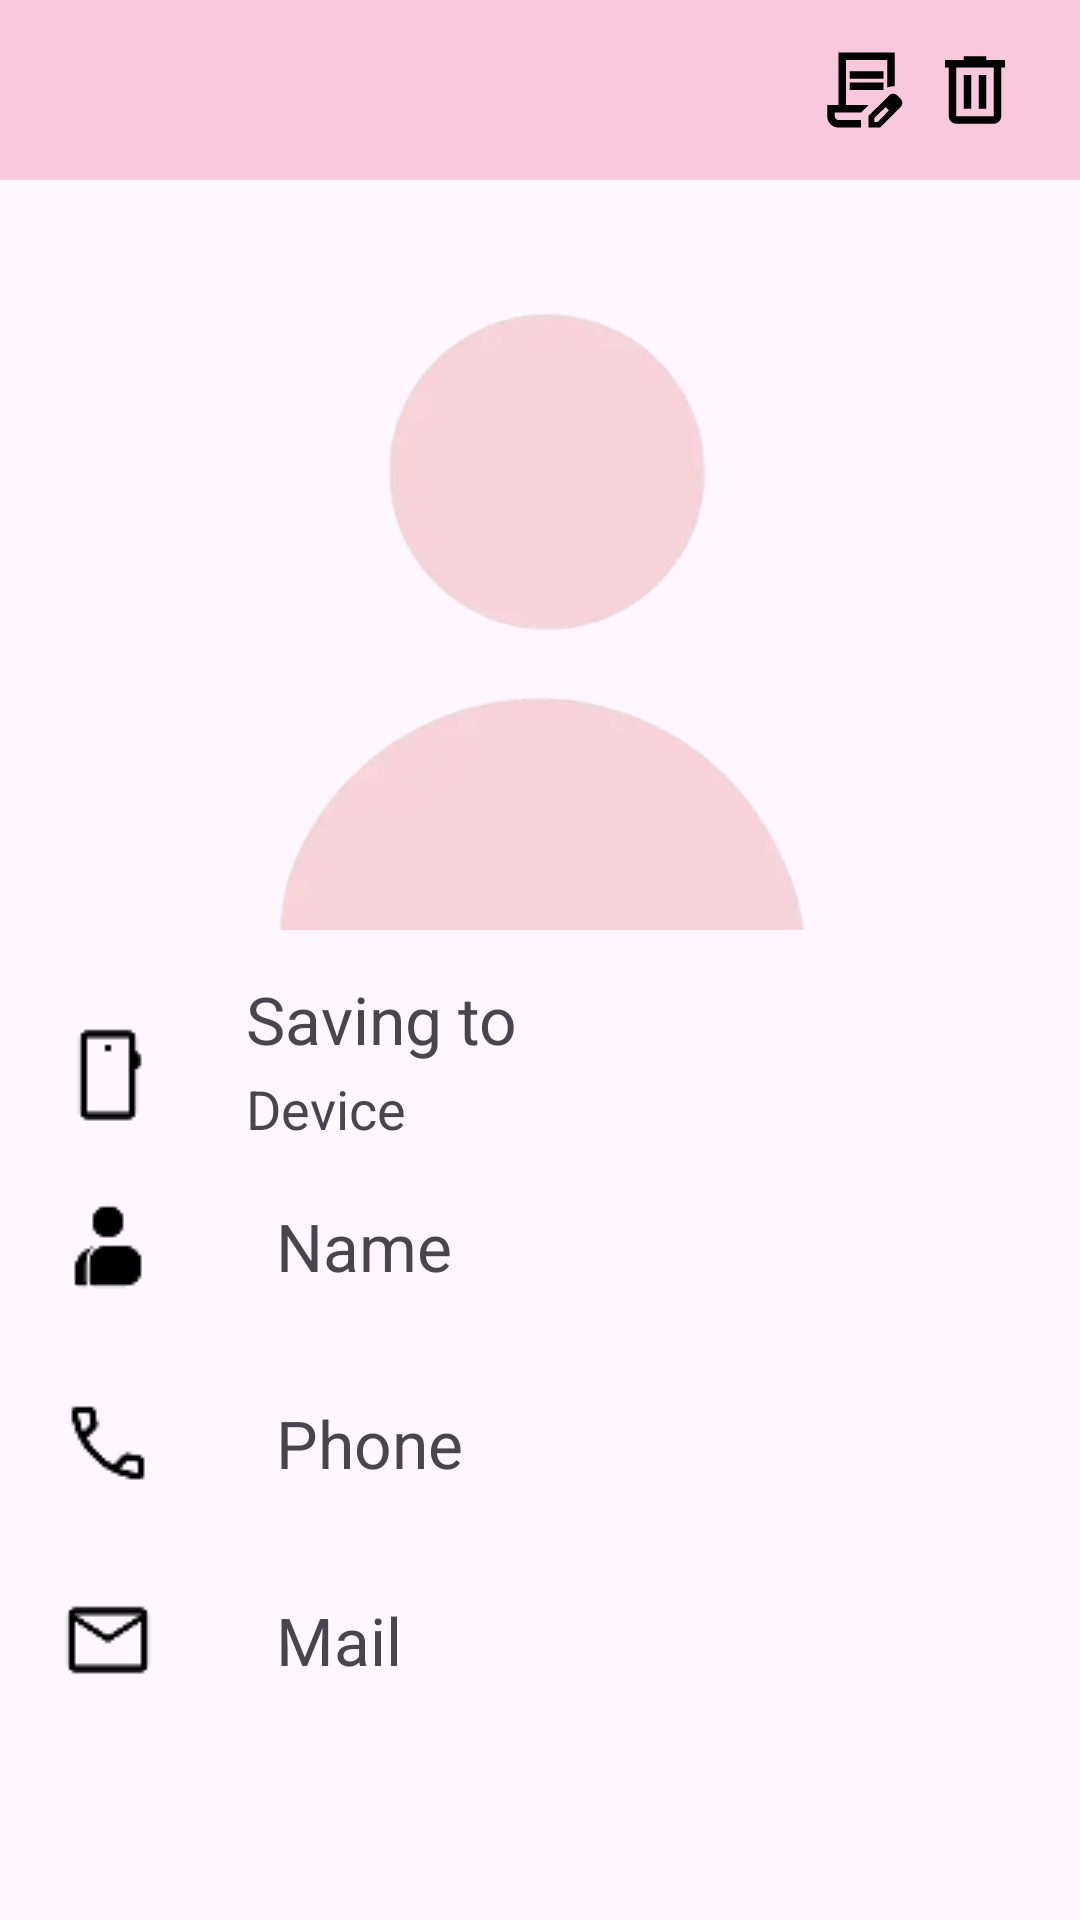

Icons on this 1080 x 1920 Android screen, each with the point to tap as point (x, y):
call: point (108, 1443)
delete: point (975, 90)
edit: point (865, 90)
phone: point (110, 1075)
user: point (108, 1246)
